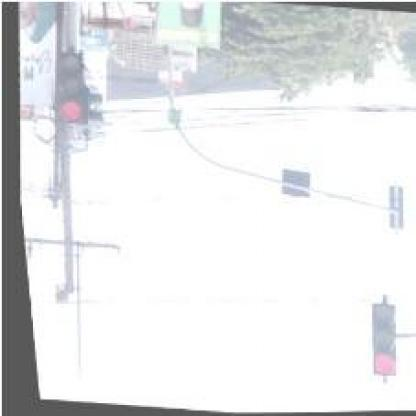red: (356, 302, 395, 380), (50, 55, 86, 125)
